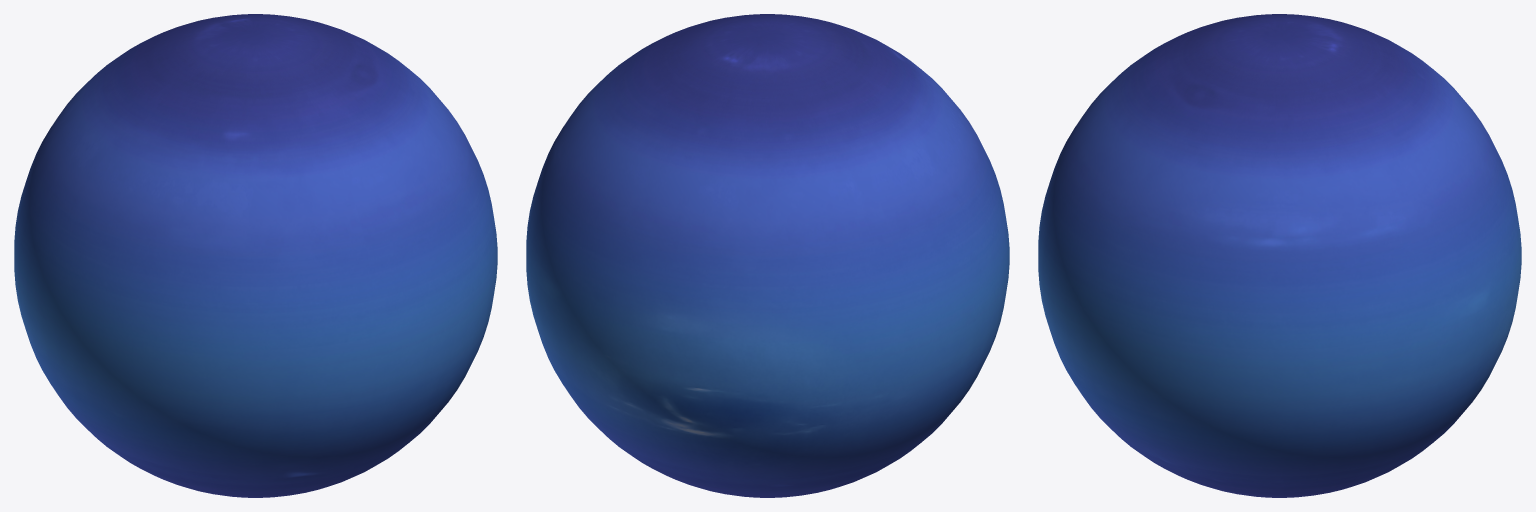
The model's file is neptun.glb.
3 views of the same model, side by side, from view 1: azimuth 30°, elevation 25°; view 2: azimuth 150°, elevation 25°; view 3: azimuth 270°, elevation 25° (orthographic).
Visible parts, largest first — view 1: Sphere; view 2: Sphere; view 3: Sphere.
Part boxes in pixels (x1,y1,x2,y2): Sphere: (14, 14, 497, 497); Sphere: (526, 14, 1009, 497); Sphere: (1038, 14, 1521, 497).
Size of the model in its own units: 2 by 2 by 2.
Materials: 1 (1 with a texture image).
